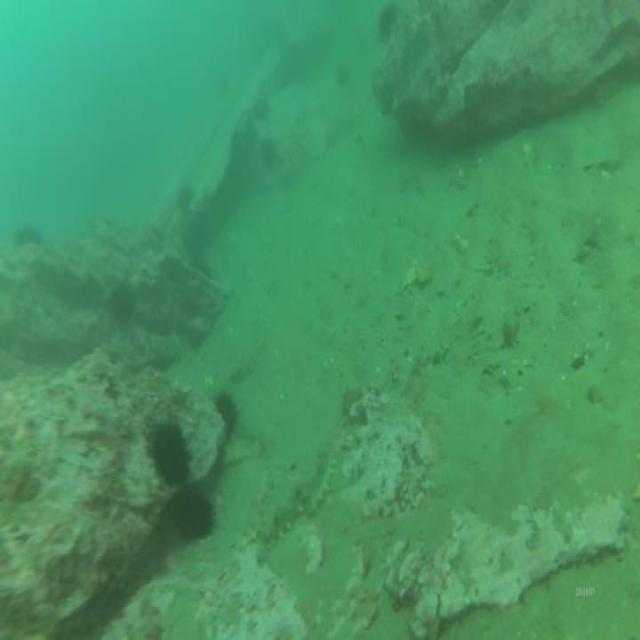echinus: (144, 411, 196, 491), (170, 476, 220, 546), (212, 384, 244, 431)
holothurian: (288, 441, 339, 525), (215, 431, 268, 463)
